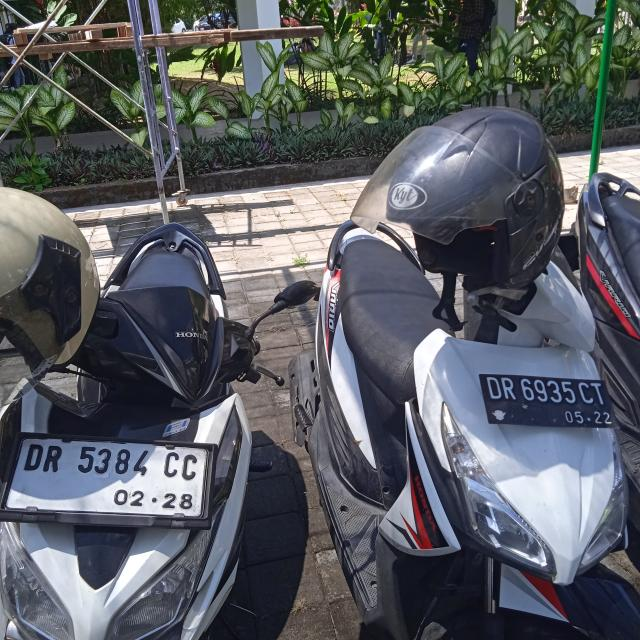plate: (13, 436, 212, 517), (479, 372, 621, 430)
